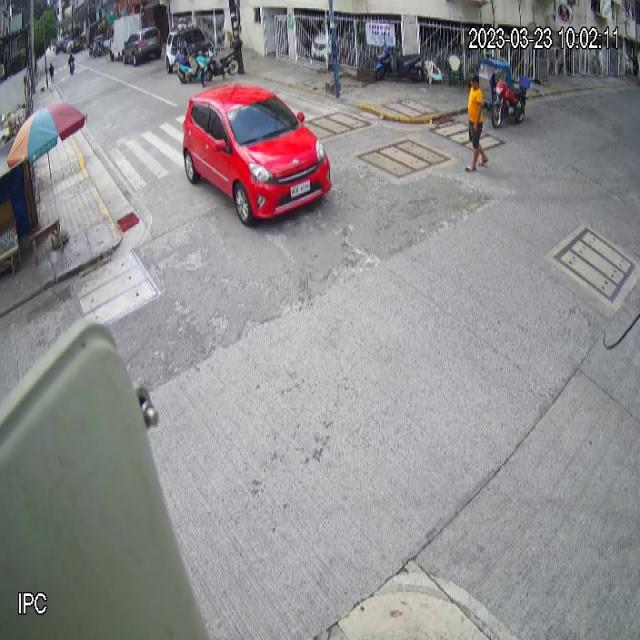Car: (183, 82, 332, 226), (121, 26, 162, 66)
Tricycle: (478, 55, 531, 129)
